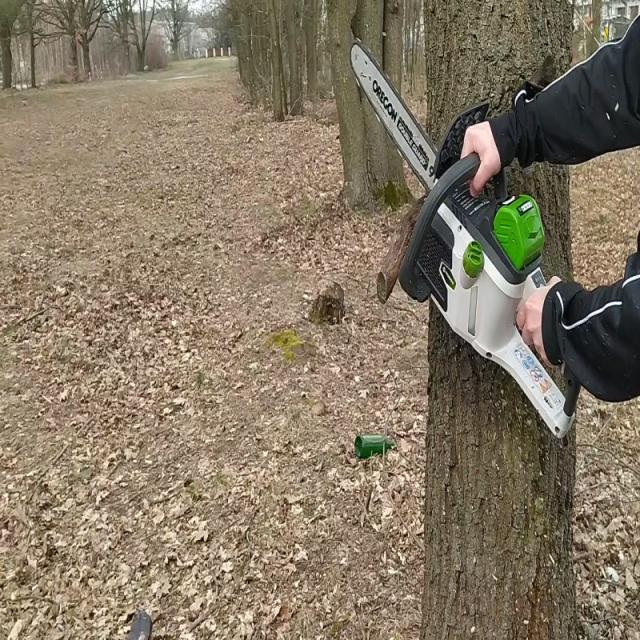Chainsaw: (343, 39, 585, 448)
